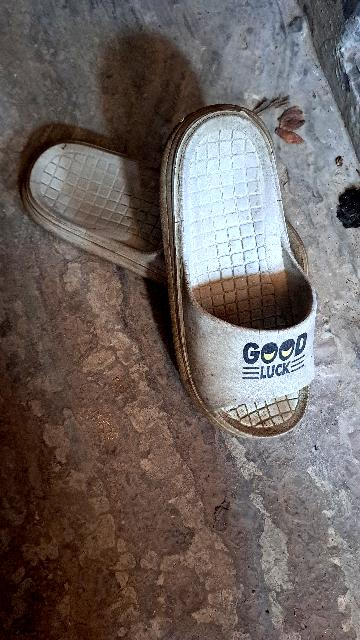sandal: (10, 125, 330, 321), (161, 99, 345, 436)
